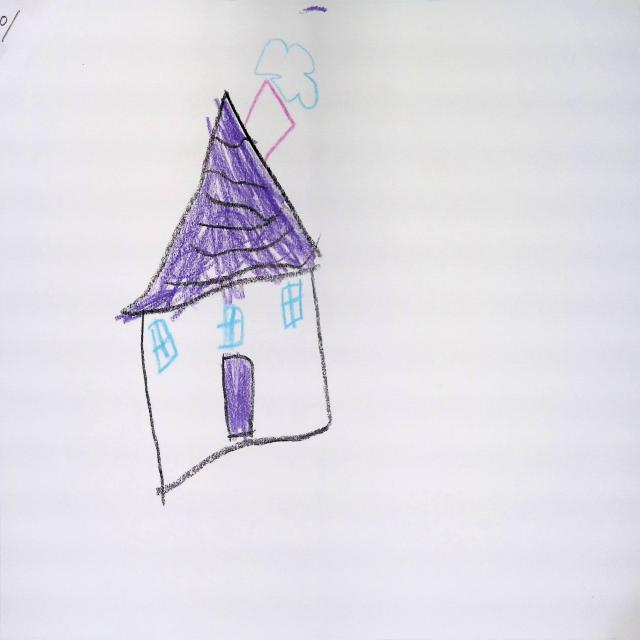chimney: (245, 79, 294, 160)
door: (218, 355, 256, 442)
house: (119, 77, 332, 497)
roof: (118, 92, 319, 320)
wall: (141, 271, 331, 494)
window: (146, 319, 179, 377), (219, 304, 244, 349), (281, 282, 303, 329)
